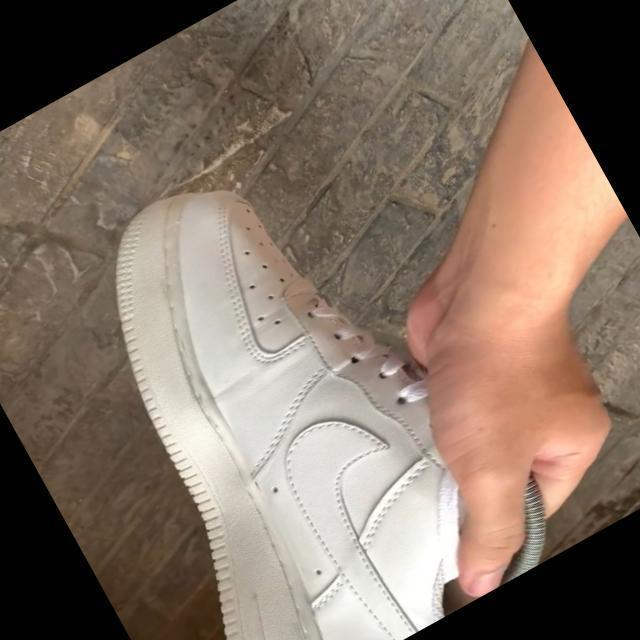nike fake air force: (7, 106, 568, 640)
